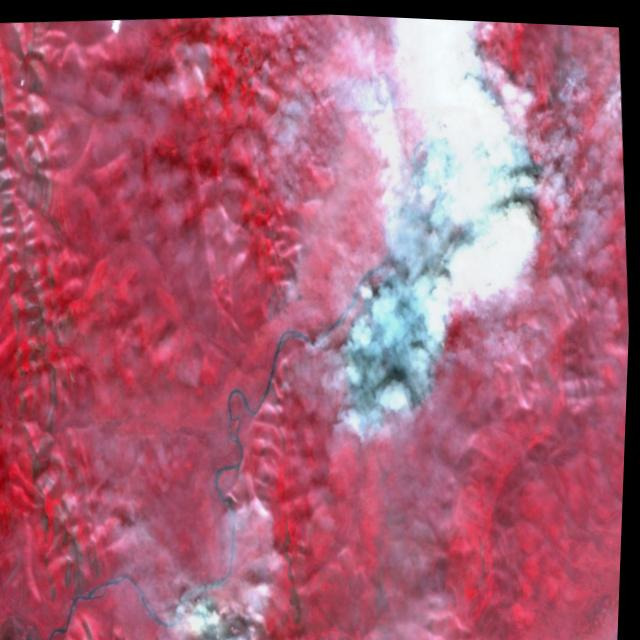fire: (326, 267, 468, 448)
